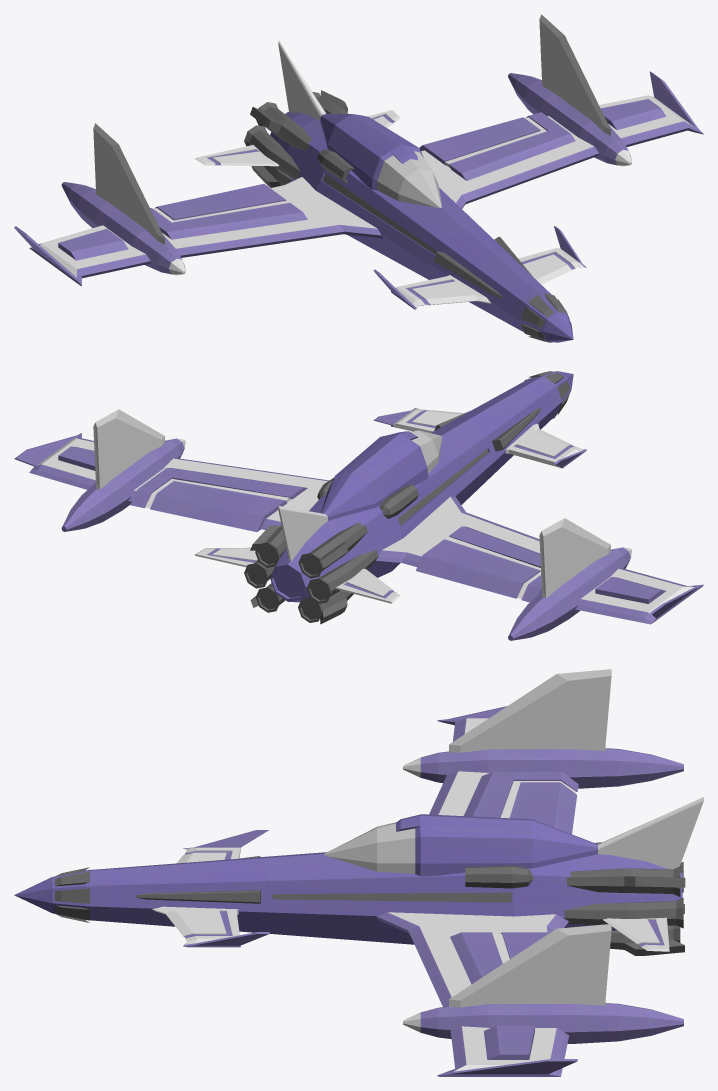
The model's file is PurpleNeedle.fbx.
3 views of the same model, one above another, from view 1: azimuth 30°, elevation 25°; view 2: azimuth 150°, elevation 25°; view 3: azimuth 270°, elevation 25° (orthographic). The views are drawn at different scales.
Parts seen in each view (by area): view 1: PurpleWings, PurpleChassi; view 2: PurpleWings, PurpleChassi; view 3: PurpleWings, PurpleChassi.
Boxes of the visible parts, box(x1,y1,x2,y2) form: PurpleWings: box(14, 14, 703, 309); PurpleChassi: box(244, 40, 573, 342); PurpleWings: box(14, 408, 703, 640); PurpleChassi: box(244, 371, 573, 624); PurpleWings: box(152, 669, 683, 1076); PurpleChassi: box(14, 797, 703, 955).
Size of the model in its own units: 16.37 by 3.22 by 13.11.
